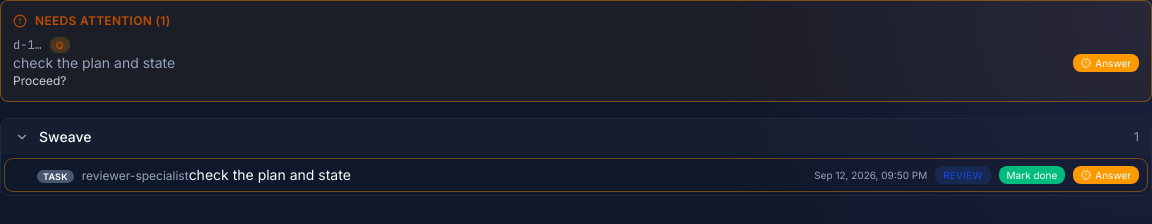
Test: AnswerInline gating › pending escalation shows Answer and answering posts the response
Click the 1st button with test id "answer-toggle-d-1" at (1106, 63), box [1073,54,1139,72]
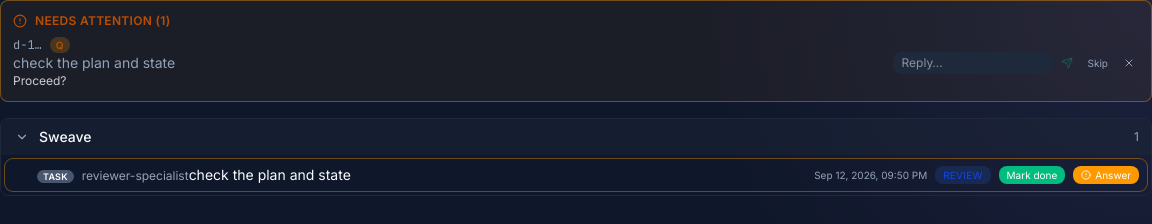
Type "yes, proceed" into the field with test id "answer-input-d-1" at (972, 63), box [892,52,1052,74]
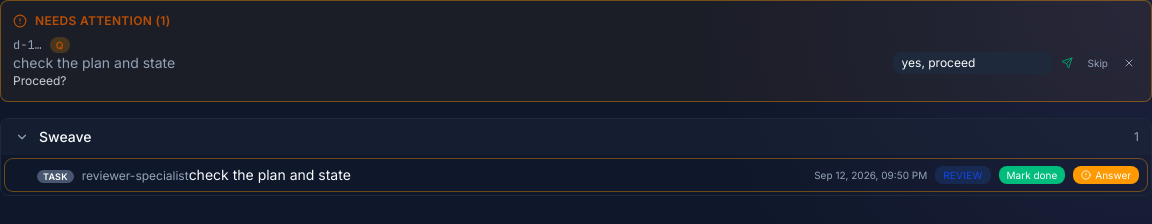
Click the button with test id "answer-send-d-1" at (1066, 63), box [1056,53,1076,73]
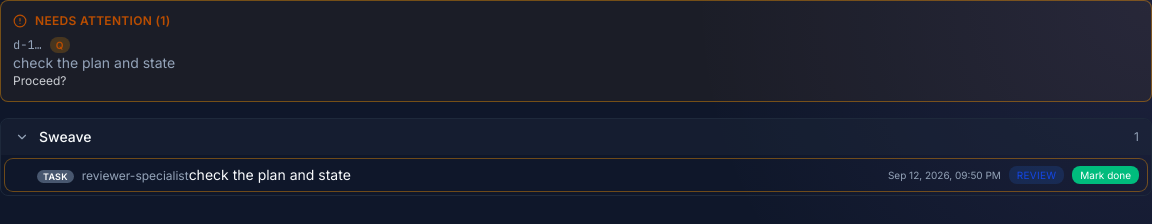
Expected: the button with test id "promote-d-1" is shown, [1072,166,1139,184]
Result: no buttons with test id "answer-toggle-d-1" are shown
